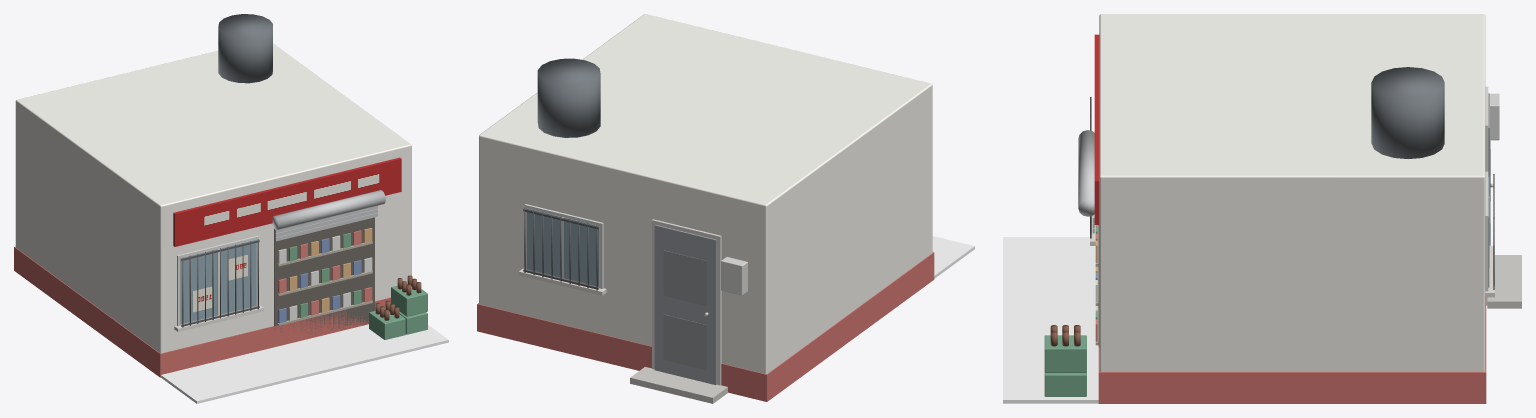
The model's file is barrio.almacen.fbx.
The picture shows the model from 3 angles, left to right: view 1: azimuth 30°, elevation 25°; view 2: azimuth 150°, elevation 25°; view 3: azimuth 270°, elevation 25°; orthographic projection. The views are drawn at different scales.
Parts seen in each view (by area): view 1: Almacen, Vereda del local, Zocalo, Letrero del almacen, Interior, Vidrio, Estanque, Rollo de la cortina, Marco ventana, Cajon de bebidas.001, Cajon de bebidas.002, Lama.001 (+5 smaller); view 2: Almacen, Zocalo, Puerta, Estanque, Vidrio.001, Panel puerta, Panel puerta.001, Peldano, Marco puerta, Vereda del local, Medidor de luz, Marco ventana.001 (+1 smaller); view 3: Almacen, Vereda del local, Zocalo, Estanque, Peldano, Cajon de bebidas.001, Rollo de la cortina, Letrero del almacen, Cajon de bebidas, Marco ventana.001, Medidor de luz.
Part boxes in pixels (x1,y1,x2,y2): Almacen: [15, 43, 411, 353]; Vereda del local: [161, 324, 448, 403]; Zocalo: [14, 247, 390, 377]; Letrero del almacen: [173, 157, 401, 246]; Interior: [274, 217, 374, 334]; Vidrio: [180, 240, 256, 324]; Estanque: [218, 14, 272, 83]; Rollo de la cortina: [272, 190, 385, 229]; Marco ventana: [177, 236, 258, 326]; Cajon de bebidas.001: [391, 283, 427, 316]; Cajon de bebidas.002: [369, 308, 405, 339]; Lama.001: [275, 209, 377, 237]; Almacen: [479, 14, 932, 374]; Zocalo: [477, 252, 934, 401]; Puerta: [654, 225, 716, 384]; Estanque: [537, 58, 600, 137]; Vidrio.001: [527, 208, 599, 286]; Panel puerta: [663, 314, 706, 370]; Panel puerta.001: [663, 250, 706, 305]; Peldano: [630, 367, 727, 403]; Marco puerta: [652, 219, 721, 385]; Vereda del local: [932, 236, 974, 278]; Medidor de luz: [721, 257, 747, 295]; Marco ventana.001: [524, 204, 603, 288]; Almacen: [1099, 14, 1485, 371]; Vereda del local: [1003, 237, 1098, 403]; Zocalo: [1098, 297, 1486, 403]; Estanque: [1371, 67, 1444, 158]; Peldano: [1487, 255, 1521, 308]; Cajon de bebidas.001: [1044, 335, 1086, 372]; Rollo de la cortina: [1078, 130, 1094, 216]; Letrero del almacen: [1094, 34, 1099, 224]; Cajon de bebidas: [1044, 372, 1086, 396]; Marco ventana.001: [1485, 171, 1488, 291]; Medidor de luz: [1490, 93, 1499, 140].
Bounding box in the file's own units: 4.02 × 3.31 × 5.38.
75 materials, 3 textured.
